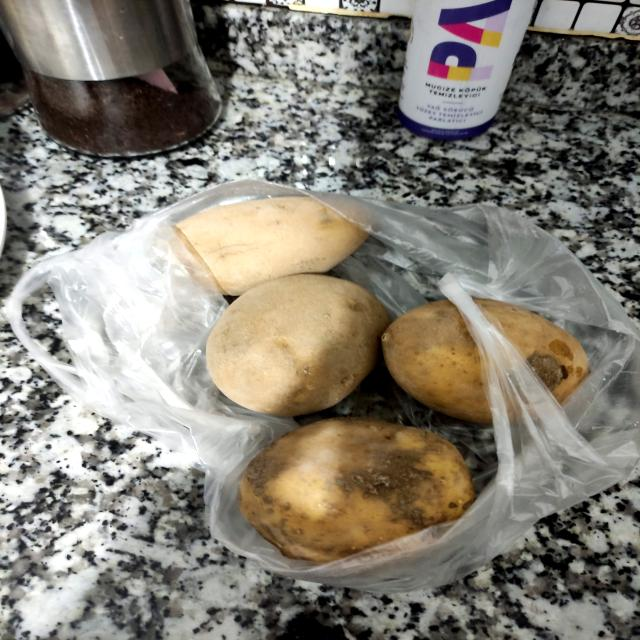potato: (229, 412, 493, 568), (373, 284, 602, 430), (200, 266, 394, 414), (153, 192, 383, 286)
